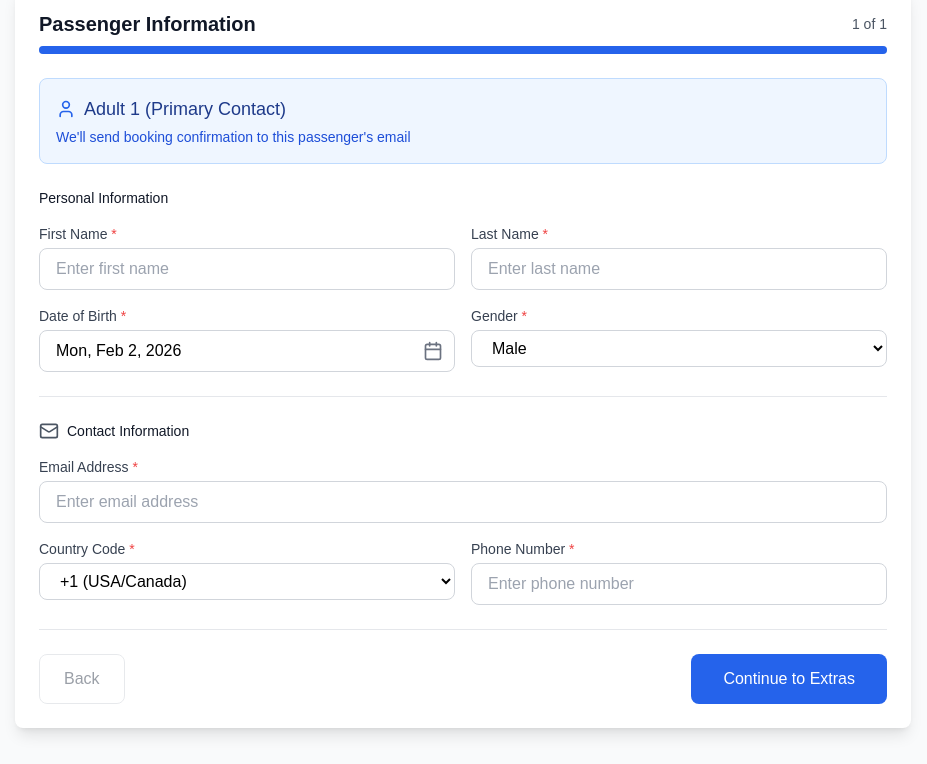
Scenario: PassengerForm › Validation - Basic Fields › shows error for invalid first name with numbers
In the field labelled "First Name *": (247, 269) [39,248,455,290], type "John123"
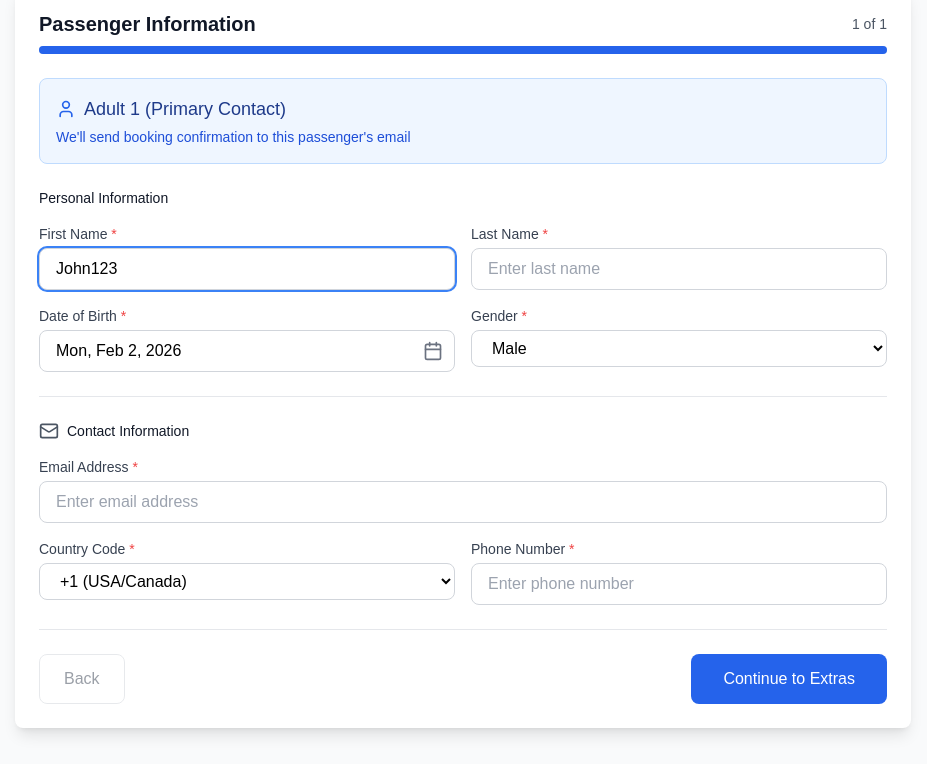
Click the button "Continue to Extras": (789, 679) [691,654,887,704]
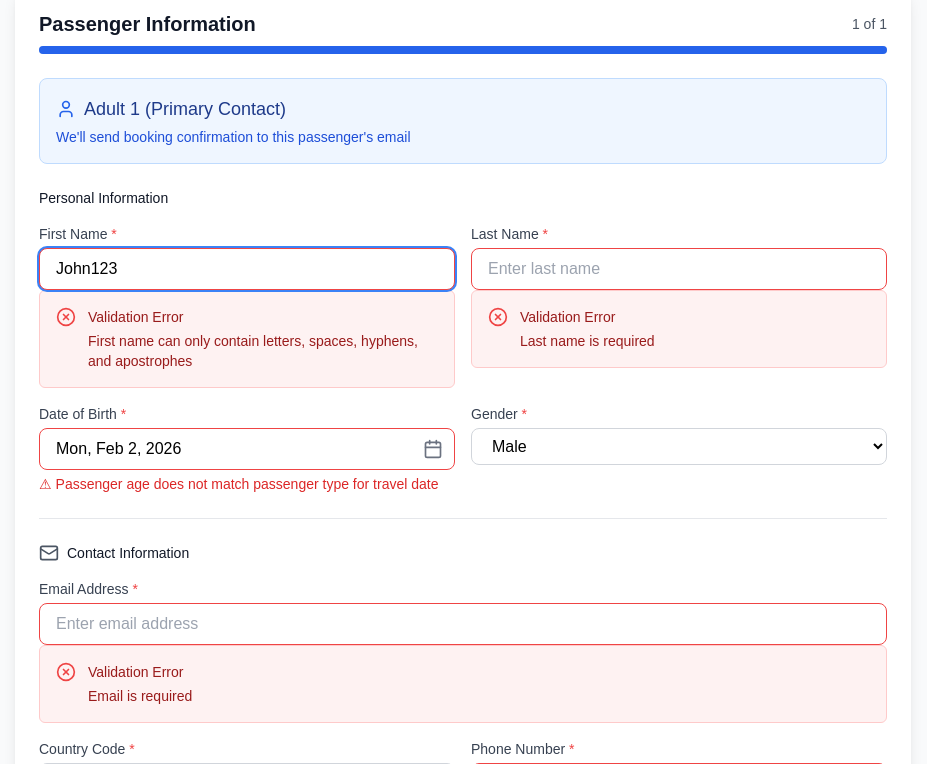
Now the text "can only contain letters" is shown, box [88,333,418,369]
